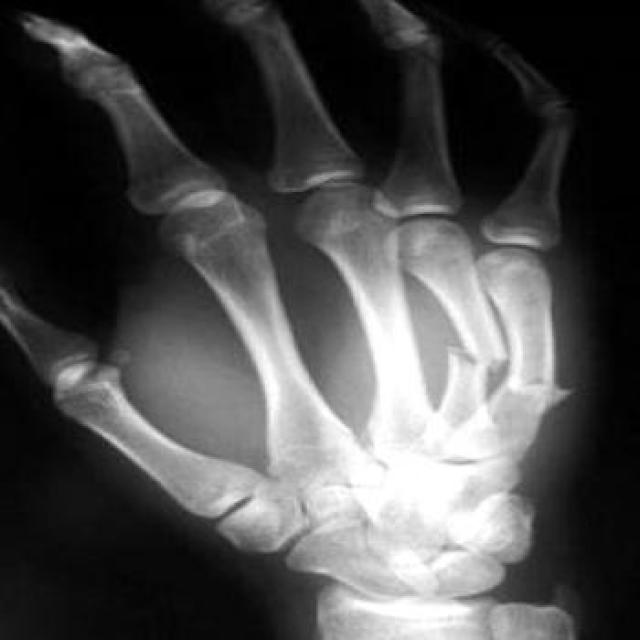Fracture: (501, 364, 583, 412), (437, 334, 506, 378)
